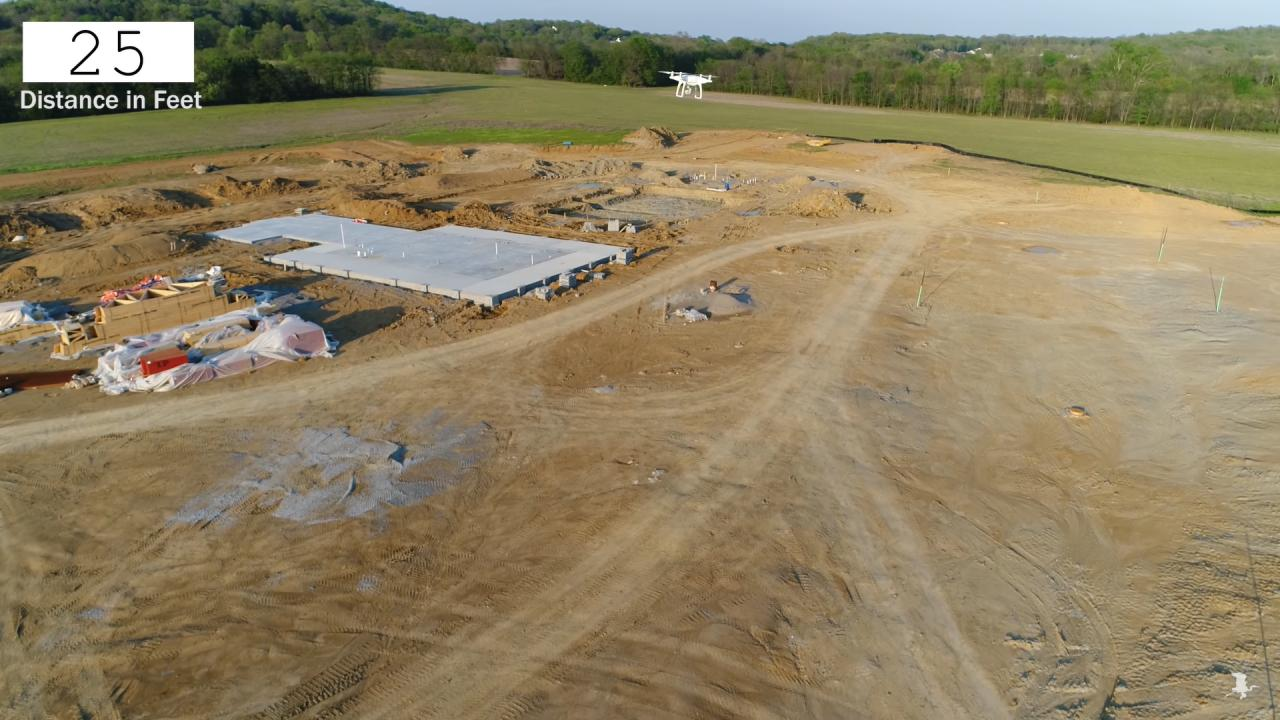Drone: (654, 58, 726, 102)
